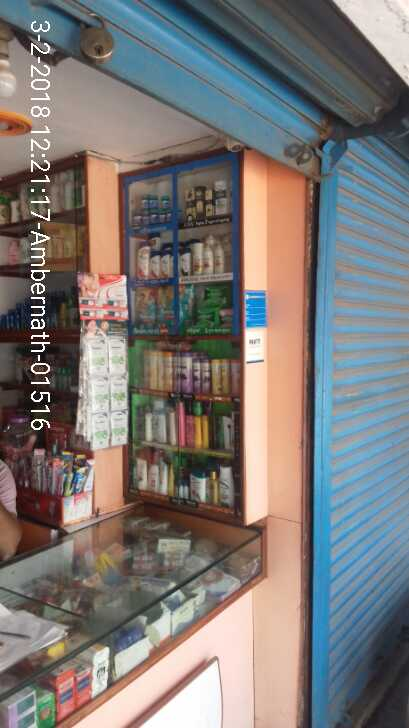beauty: (131, 241, 150, 282), (210, 180, 227, 221), (185, 182, 199, 220), (212, 241, 226, 276), (147, 248, 160, 280), (189, 241, 199, 276), (157, 252, 171, 276), (200, 250, 212, 270)
pharmacy: (150, 284, 191, 337), (131, 190, 171, 225), (132, 285, 154, 335), (187, 299, 212, 332), (192, 281, 225, 302)
